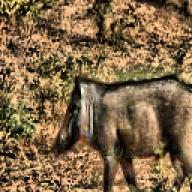boar: (49, 73, 192, 192)
